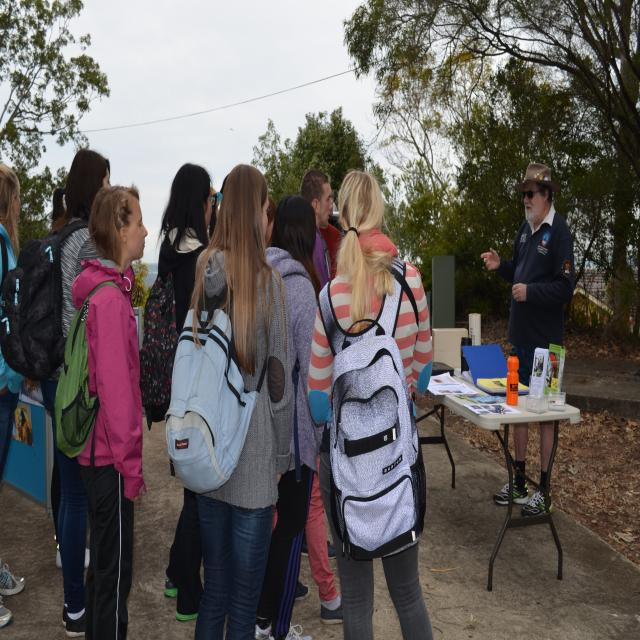body: (168, 162, 298, 640), (307, 170, 435, 639), (1, 147, 112, 638), (139, 162, 219, 624), (479, 160, 579, 523), (69, 182, 148, 640), (252, 192, 328, 640), (0, 160, 27, 628), (299, 461, 370, 628), (49, 413, 91, 572), (201, 183, 278, 252), (300, 168, 334, 290)
